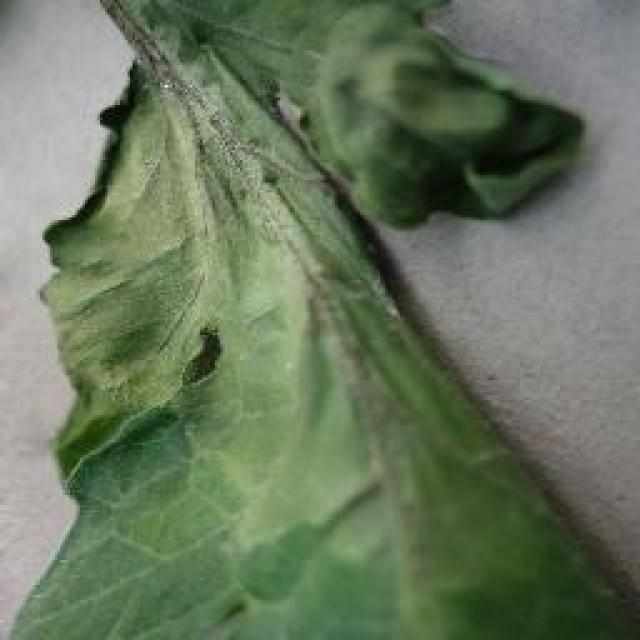Tomato Late Blight: (77, 0, 475, 505)
